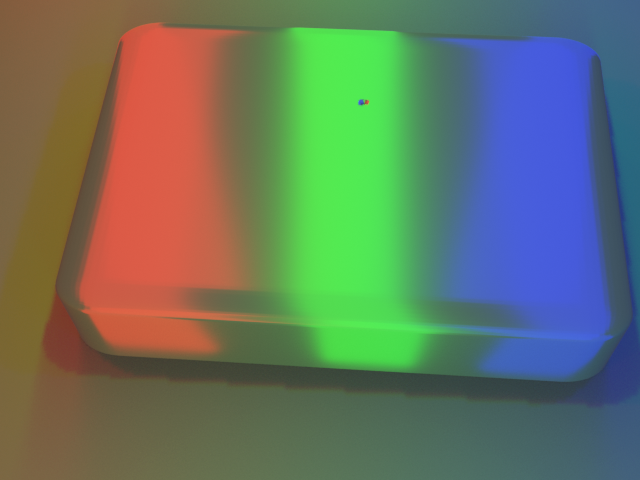dent: (350, 72, 383, 105)
